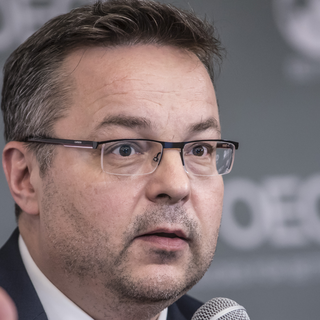eye: (100, 138, 147, 162), (181, 138, 216, 164)
